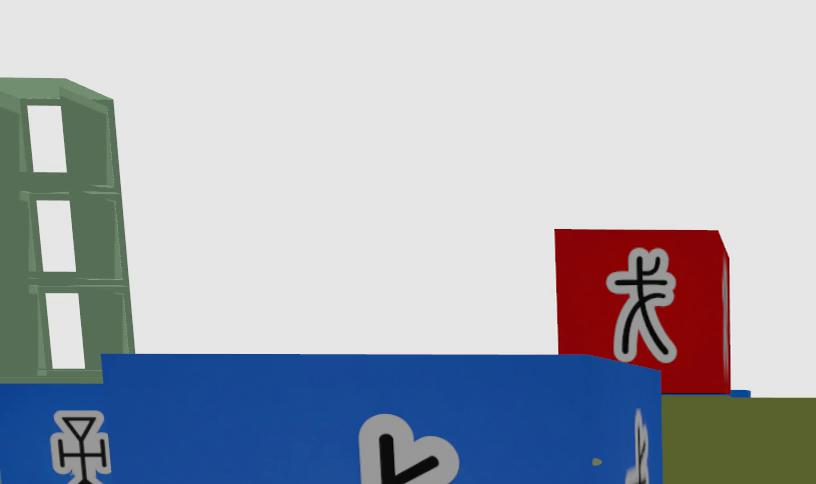KFS_FAKE: (555, 230, 731, 393), (607, 247, 677, 362)
KFS_REAL: (99, 353, 668, 484), (0, 384, 127, 484), (355, 415, 458, 484), (51, 411, 110, 484), (625, 409, 650, 484)
